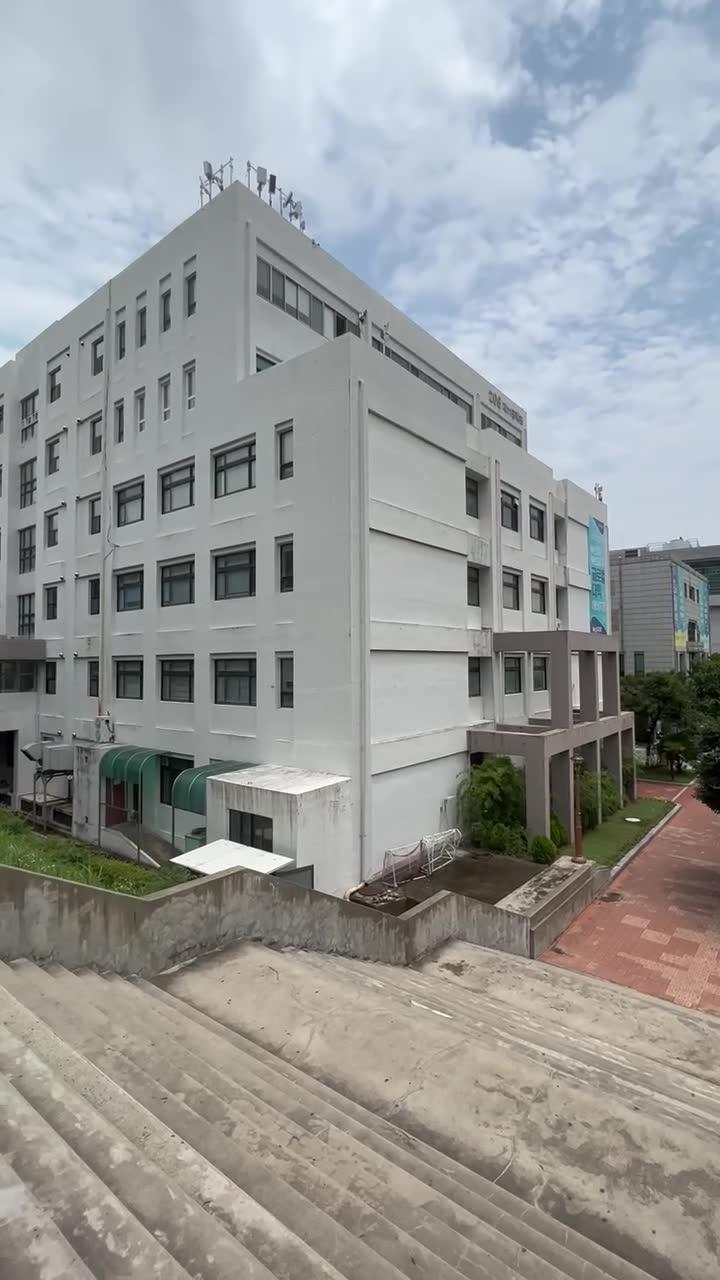building: (12, 170, 612, 832)
